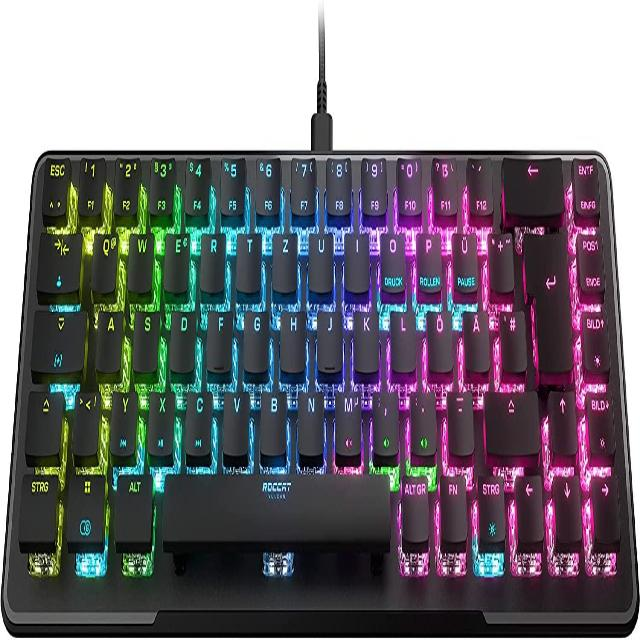0: (395, 151, 423, 219)
1: (75, 151, 105, 218)
2: (111, 152, 139, 219)
3: (147, 151, 176, 220)
4: (182, 151, 210, 220)
5: (218, 151, 245, 219)
6: (253, 151, 281, 218)
7: (289, 151, 316, 218)
8: (324, 151, 352, 219)
9: (359, 151, 387, 218)
a: (94, 305, 122, 370)
accent: (465, 150, 493, 220)
ae: (461, 306, 489, 370)
alt-left: (112, 466, 153, 543)
altgr-right: (400, 474, 428, 542)
b: (258, 385, 286, 454)
c: (182, 386, 212, 456)
caret: (40, 152, 70, 218)
comma: (371, 389, 399, 456)
d: (167, 306, 195, 372)
del: (500, 151, 564, 215)
e: (162, 229, 189, 291)
enter: (521, 225, 573, 373)
f: (204, 306, 232, 371)
g: (241, 306, 268, 371)
h: (278, 307, 305, 372)
hash: (498, 304, 526, 369)
i: (342, 227, 369, 290)
j: (314, 306, 341, 371)
k: (352, 305, 379, 371)
keyboard: (2, 137, 638, 631)
l: (389, 306, 415, 370)
less: (71, 386, 100, 456)
m: (333, 387, 361, 457)
minus: (445, 386, 473, 452)
n: (296, 386, 323, 455)
o: (378, 225, 406, 297)
oe: (425, 306, 452, 370)
p: (413, 224, 442, 301)
plus: (486, 227, 513, 290)
point: (409, 387, 436, 456)
q: (89, 228, 117, 291)
r: (198, 228, 225, 291)
s: (130, 305, 158, 371)
shift-left: (23, 385, 62, 454)
shift-lock: (30, 305, 87, 375)
shift-right: (482, 383, 539, 453)
space: (157, 466, 393, 543)
ss: (430, 152, 458, 220)
strg-left: (17, 467, 58, 543)
strg-right: (476, 472, 506, 547)
t: (234, 228, 261, 291)
tab: (35, 227, 81, 291)
u: (306, 227, 333, 291)
ue: (449, 222, 478, 299)
v: (221, 386, 248, 454)
w: (125, 228, 153, 291)
x: (145, 386, 174, 456)
y: (108, 385, 136, 455)
z: (270, 227, 297, 291)
